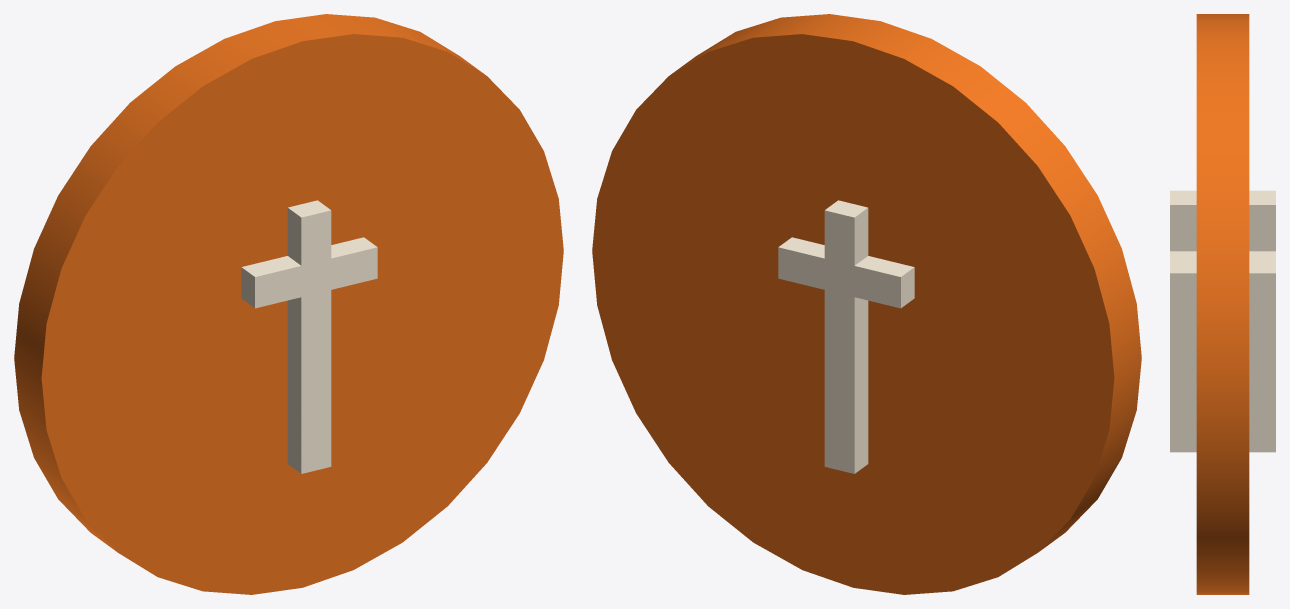
File: icon_cross.gltf
The picture shows the model from 3 angles, left to right: view 1: azimuth 30°, elevation 25°; view 2: azimuth 150°, elevation 25°; view 3: azimuth 270°, elevation 25°; orthographic projection. The views are drawn at different scales.
Visible parts, largest first — view 1: Cylinder, cross; view 2: Cylinder, cross; view 3: Cylinder, cross.
Part boxes in pixels (left/top/right/bottom): Cylinder: left=14, top=14, right=563, bottom=594; cross: left=241, top=200, right=377, bottom=473; Cylinder: left=592, top=14, right=1141, bottom=594; cross: left=778, top=200, right=914, bottom=473; Cylinder: left=1196, top=14, right=1249, bottom=594; cross: left=1170, top=190, right=1275, bottom=452.
Size of the model in its own units: 0.11 by 0.11 by 0.02.
